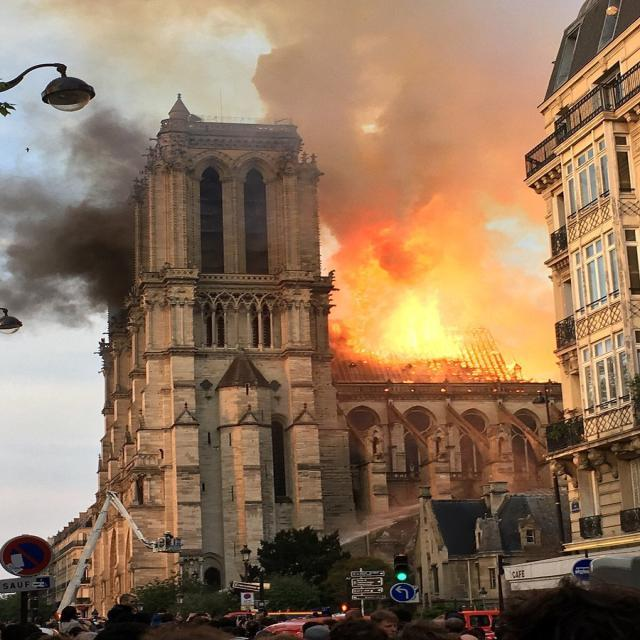Fire: (352, 280, 472, 370)
Smoke: (250, 0, 556, 281), (0, 108, 165, 320)
